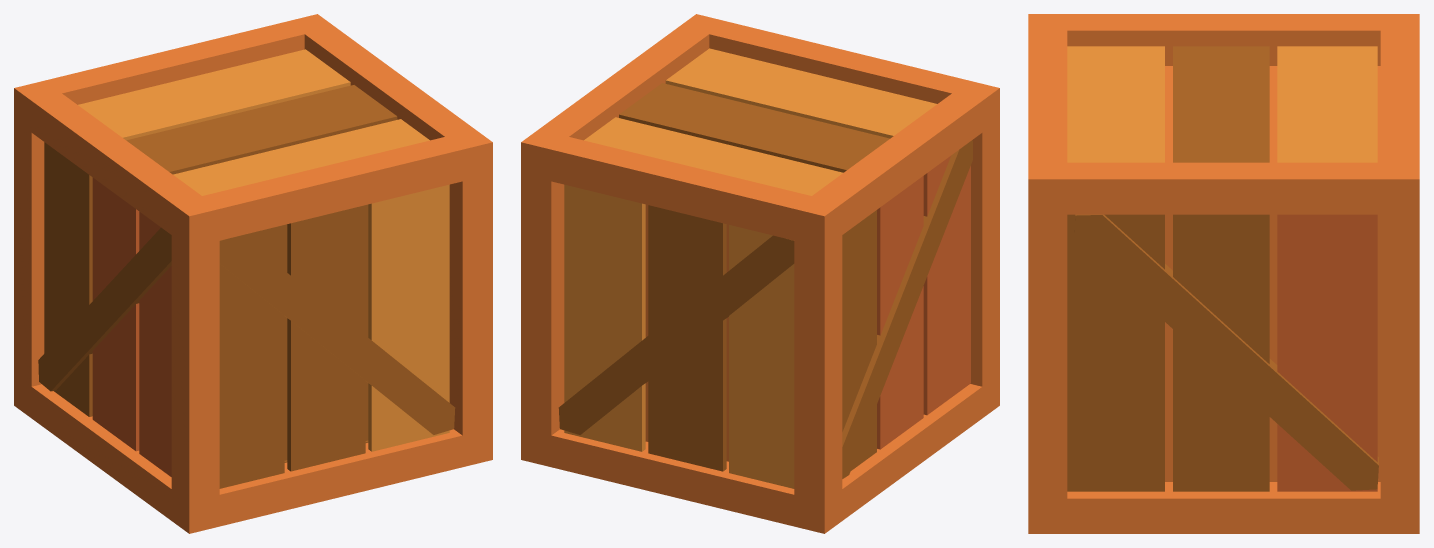
The model's file is crateM 1.fbx.
3 views of the same model, side by side, from view 1: azimuth 30°, elevation 25°; view 2: azimuth 150°, elevation 25°; view 3: azimuth 270°, elevation 25° (orthographic). The views are drawn at different scales.
Parts seen in each view (by area): view 1: crate; view 2: crate; view 3: crate.
Part boxes in pixels (<box>): crate: <box>14,14,492,533</box>; crate: <box>521,14,999,533</box>; crate: <box>1028,14,1419,533</box>.
Size of the model in its own units: 200 by 200 by 200.
